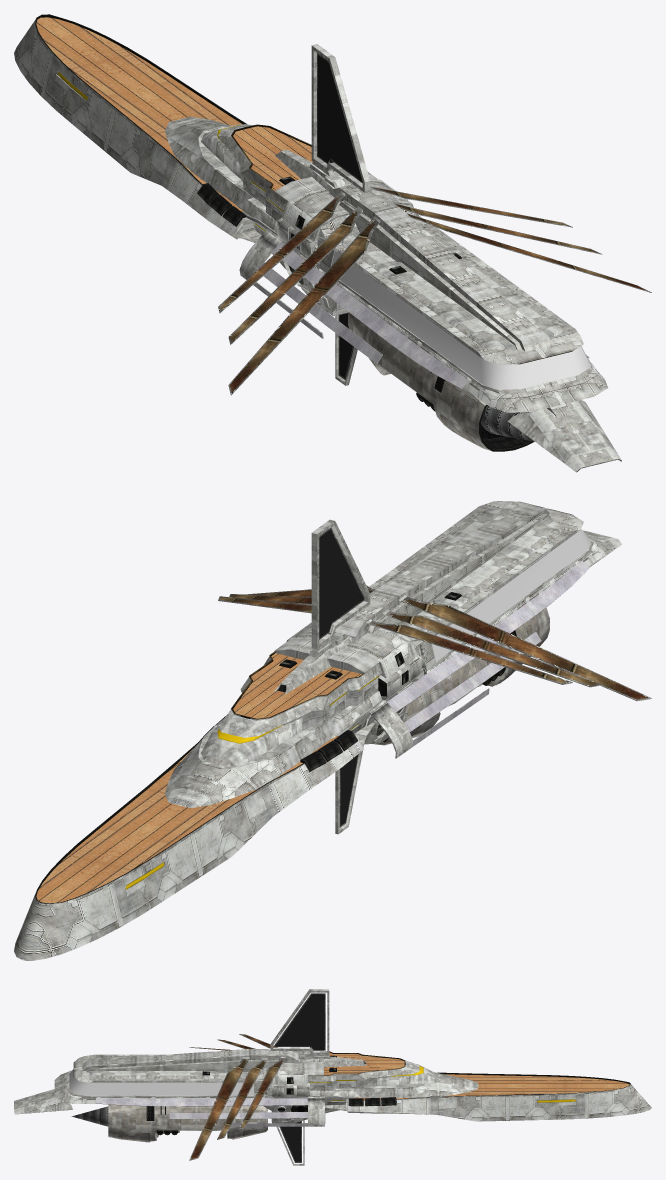
Rendered from CS-1860 Sovereign II.fbx.
The picture shows the model from 3 angles, top to bottom: view 1: azimuth 30°, elevation 25°; view 2: azimuth 150°, elevation 25°; view 3: azimuth 270°, elevation 25°; orthographic projection. The views are drawn at different scales.
Visible parts, largest first — view 1: Hull, Arrays, Deck, SOVEREI(8), Engine, Cone; view 2: Hull, Arrays, Deck, SOVEREI(8), Engine; view 3: Hull, Arrays, Deck, Engine, SOVEREI(8), Cone.
Part boxes in pixels (box(x1,y1,x2,y2)): Hull: box(14, 14, 651, 472); Arrays: box(218, 53, 651, 394); Deck: box(36, 17, 312, 211); SOVEREI(8): box(331, 251, 590, 389); Engine: box(348, 312, 534, 451); Cone: box(481, 406, 534, 441); Hull: box(14, 501, 651, 960); Arrays: box(218, 528, 651, 827); Deck: box(36, 653, 361, 903); SOVEREI(8): box(432, 529, 590, 660); Engine: box(374, 608, 549, 745); Hull: box(14, 989, 651, 1165); Arrays: box(96, 993, 325, 1162); Deck: box(324, 1052, 629, 1100); Engine: box(108, 1104, 267, 1142); SOVEREI(8): box(69, 1069, 253, 1095); Cone: box(71, 1106, 108, 1126).
Bounding box in the file's own units: 184 × 132 × 437.
Materials: 8 (8 with a texture image).
